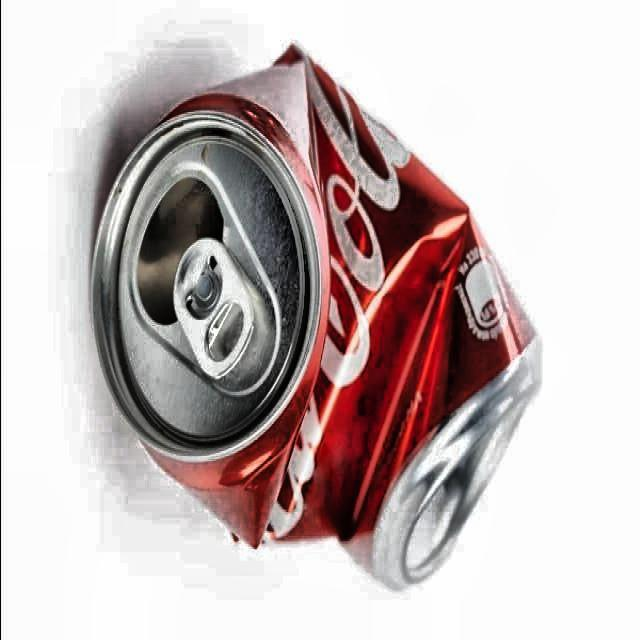metal: (88, 44, 546, 595)
